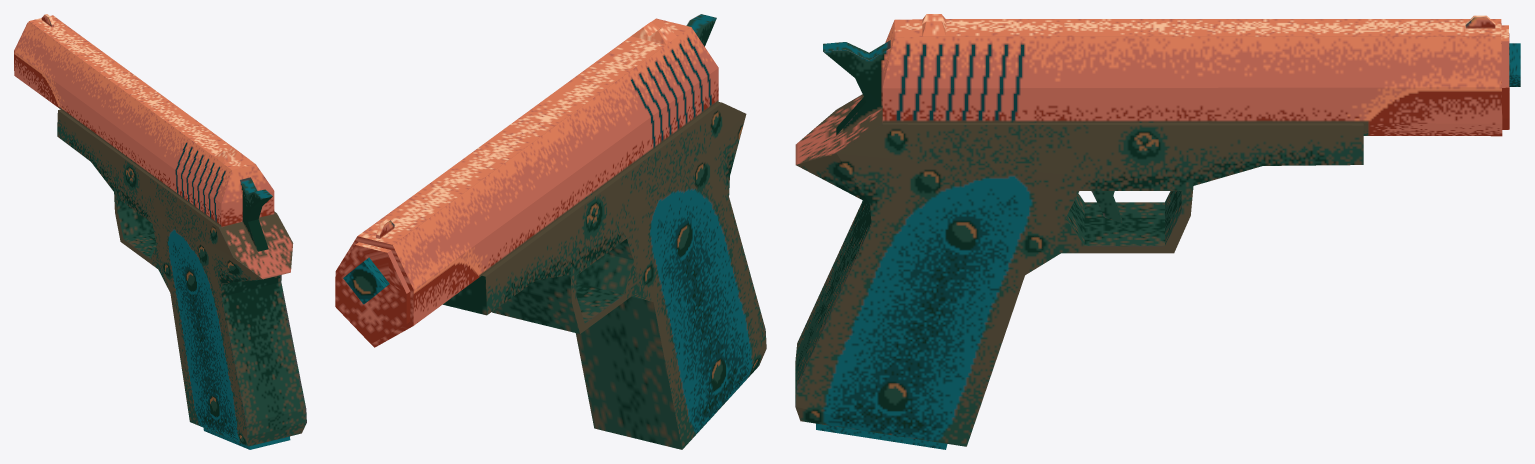
File: pistol.glb
The picture shows the model from 3 angles, left to right: view 1: azimuth 30°, elevation 25°; view 2: azimuth 150°, elevation 25°; view 3: azimuth 270°, elevation 25°; orthographic projection. The views are drawn at different scales.
Visible parts, largest first — view 1: Cube; view 2: Cube; view 3: Cube.
Part boxes in pixels (x1,y1,x2,y2): Cube: [14, 14, 306, 449]; Cube: [335, 14, 766, 449]; Cube: [795, 14, 1520, 449].
Bounding box in the file's own units: 0.5061 × 2.26 × 3.56.
1 material, 1 textured.
